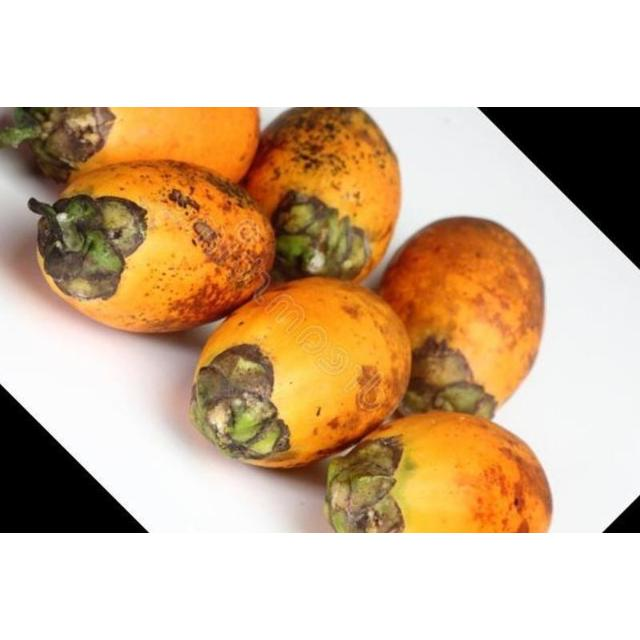good: (27, 159, 278, 336), (26, 160, 277, 336), (189, 278, 413, 471), (374, 217, 546, 419), (241, 107, 404, 284), (324, 412, 554, 533), (24, 107, 261, 185)
